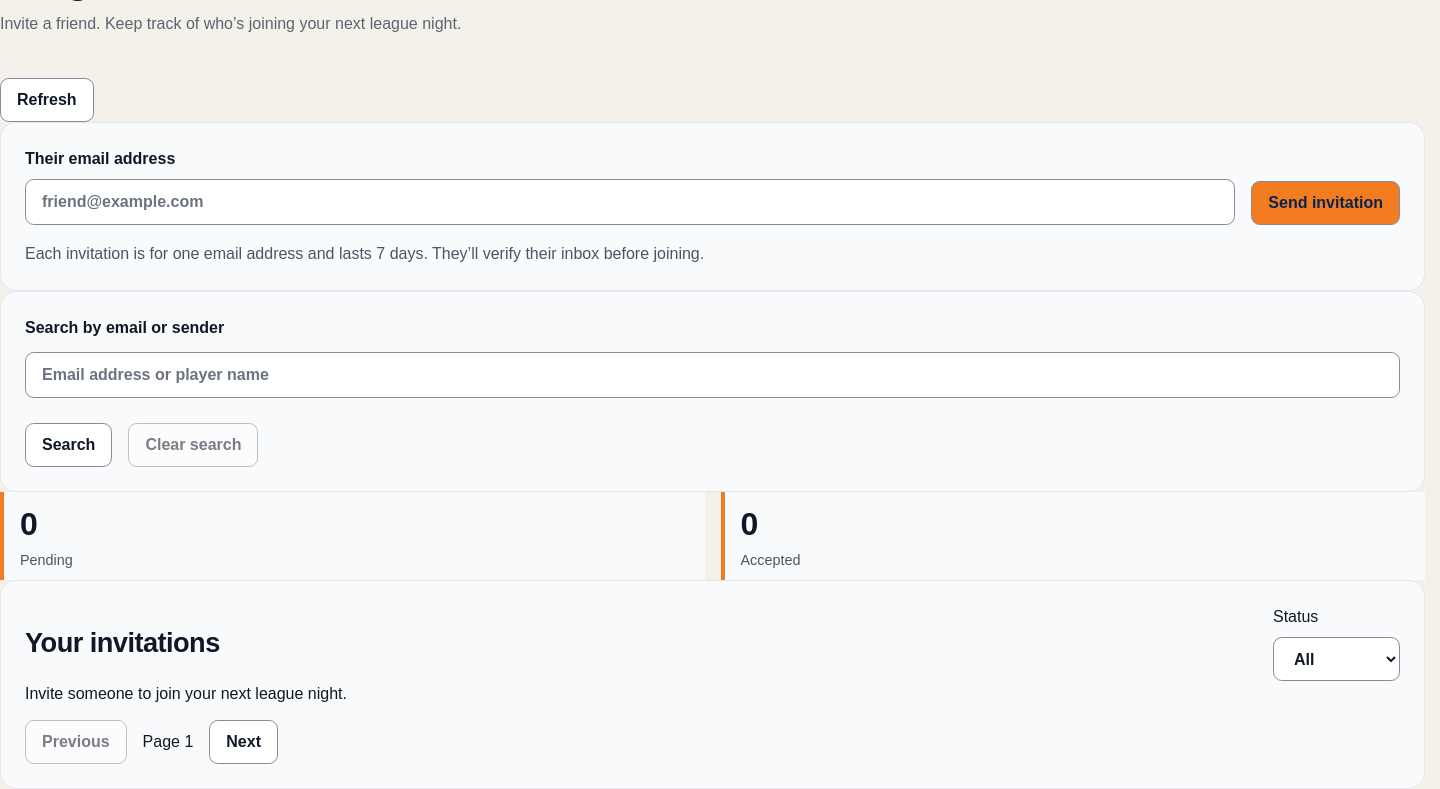
Test case: searches across history, resets pagination and clears the query
The width and height of the screenshot is (1440, 789).
(page scrolled)
Check: the text "Invite someone to join your next league night." is shown, box [25,685,347,702]
Click the button "Next" at (244, 742), box [209,720,278,764]
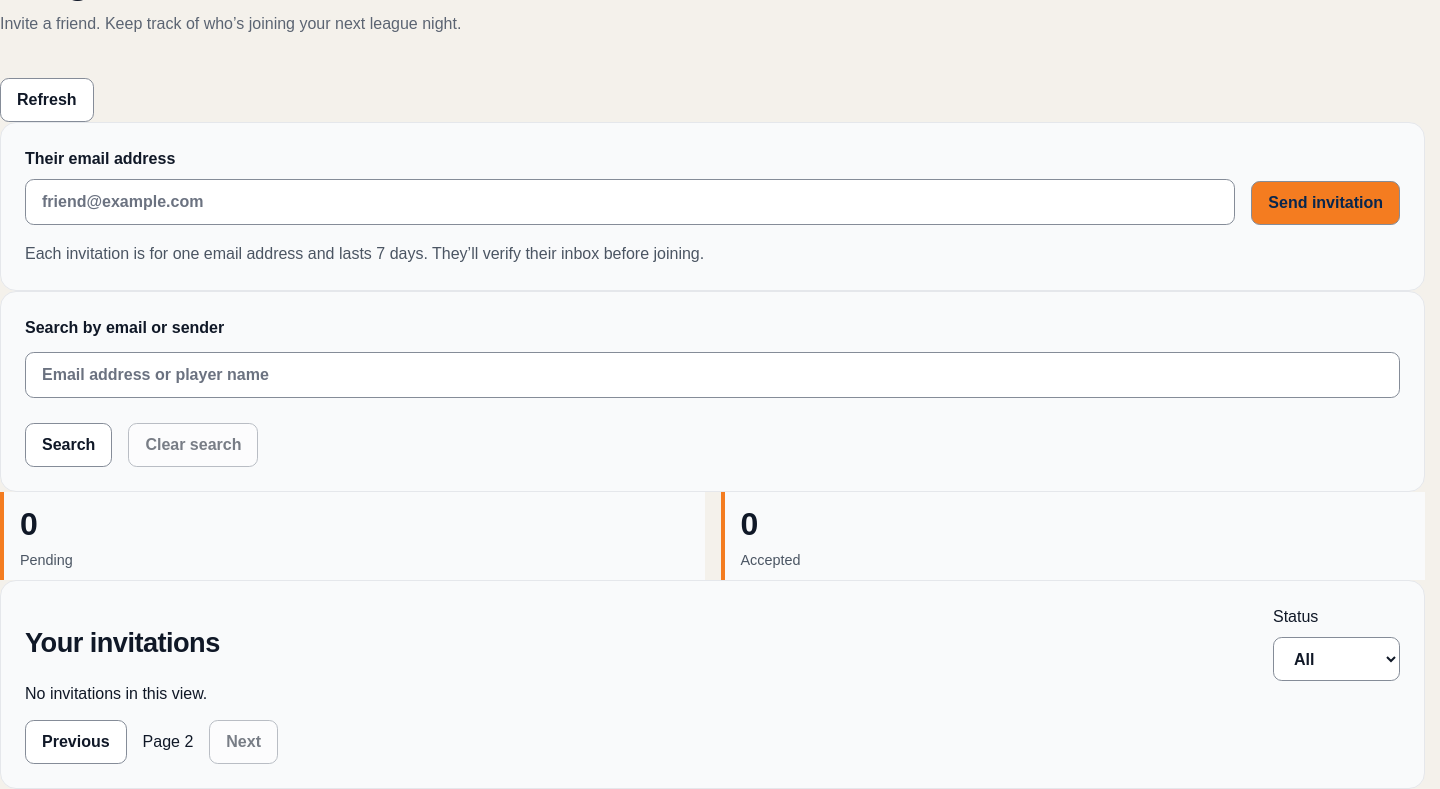
Check: the button "Search" is enabled, box [25,423,112,467]
Check: the text "Page 2" is shown, box [143,730,193,754]
Type " Alpha " into the search field labelled "Search by email or sender" at (712, 375), box [25,352,1400,398]
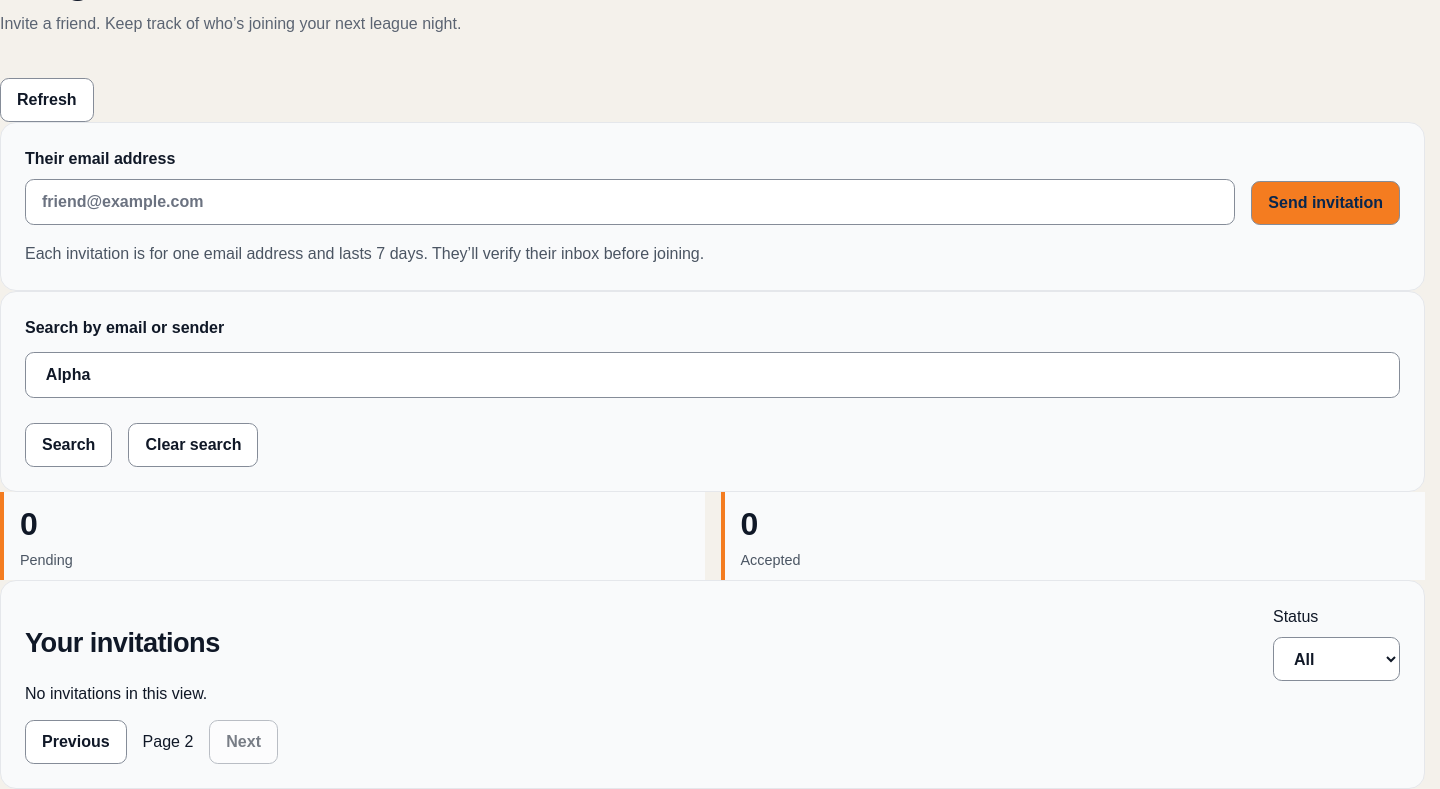
Click the button "Search" at (69, 445), box [25,423,112,467]
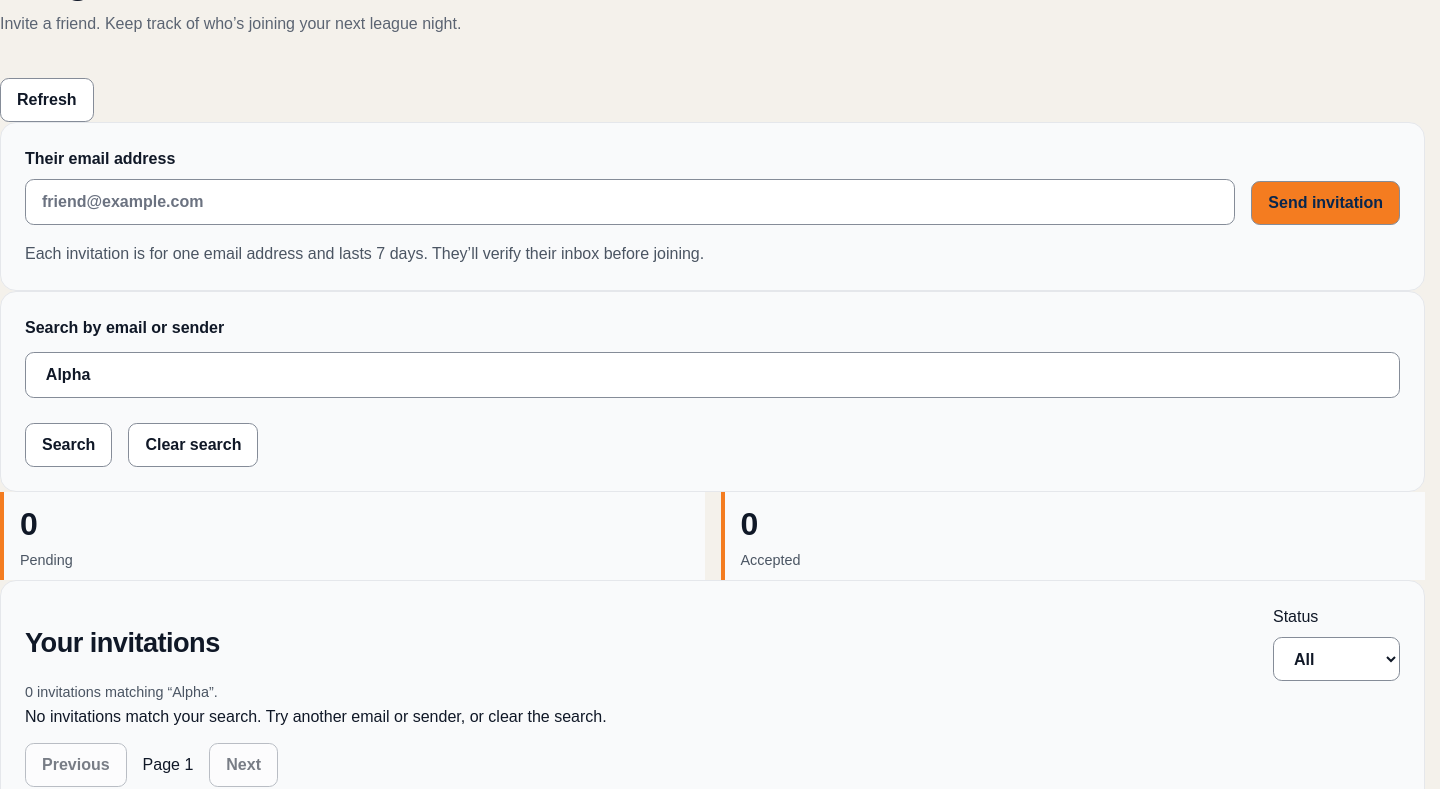
Check: the text "No invitations match your search. Try another email or sender, or clear the search." is shown, box [25,708,607,725]
Click the button "Clear search" at (193, 445), box [128,423,258,467]
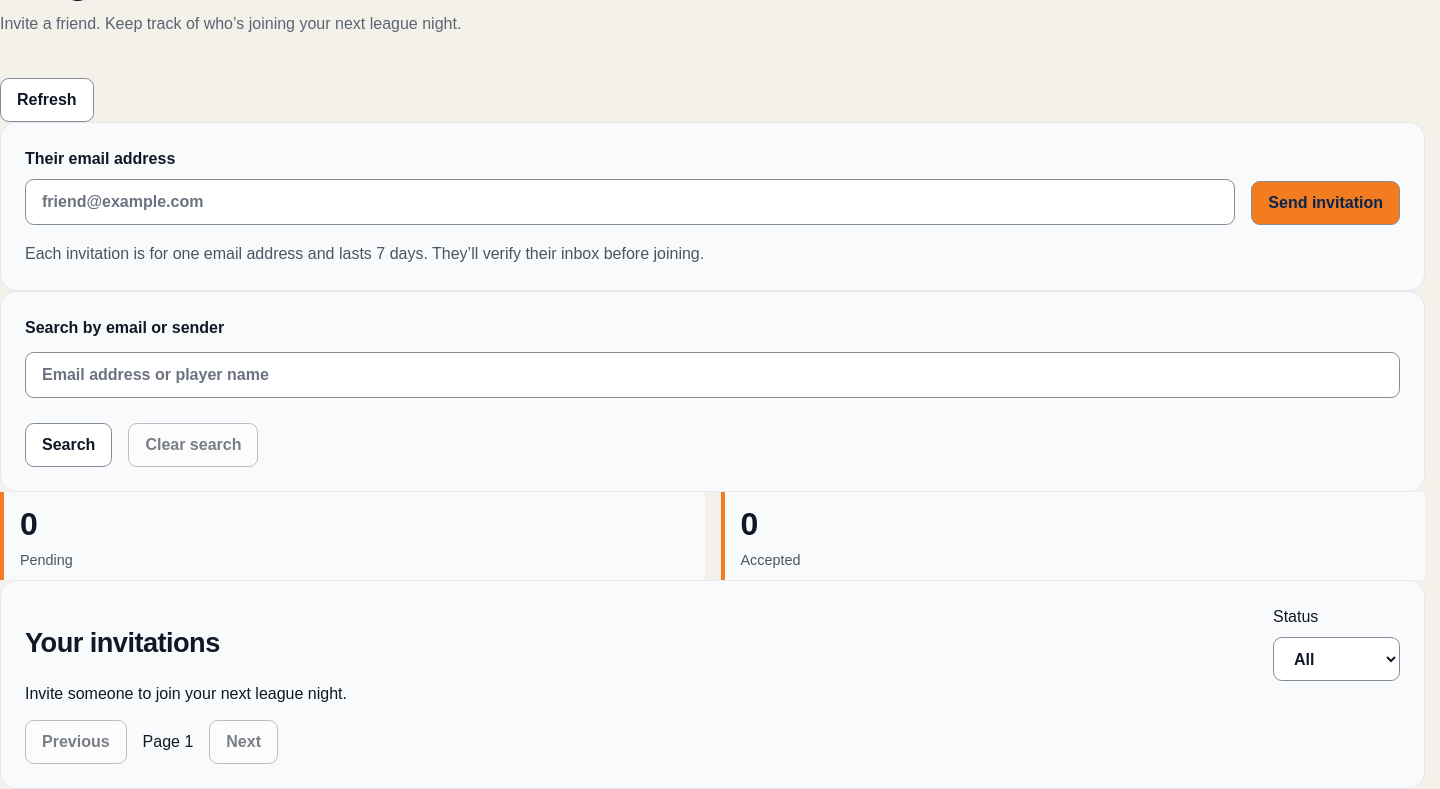
Check: the text "Invite someone to join your next league night." is shown, box [25,685,347,702]
Check: the search field labelled "Search by email or sender" is empty, box [25,352,1400,398]
